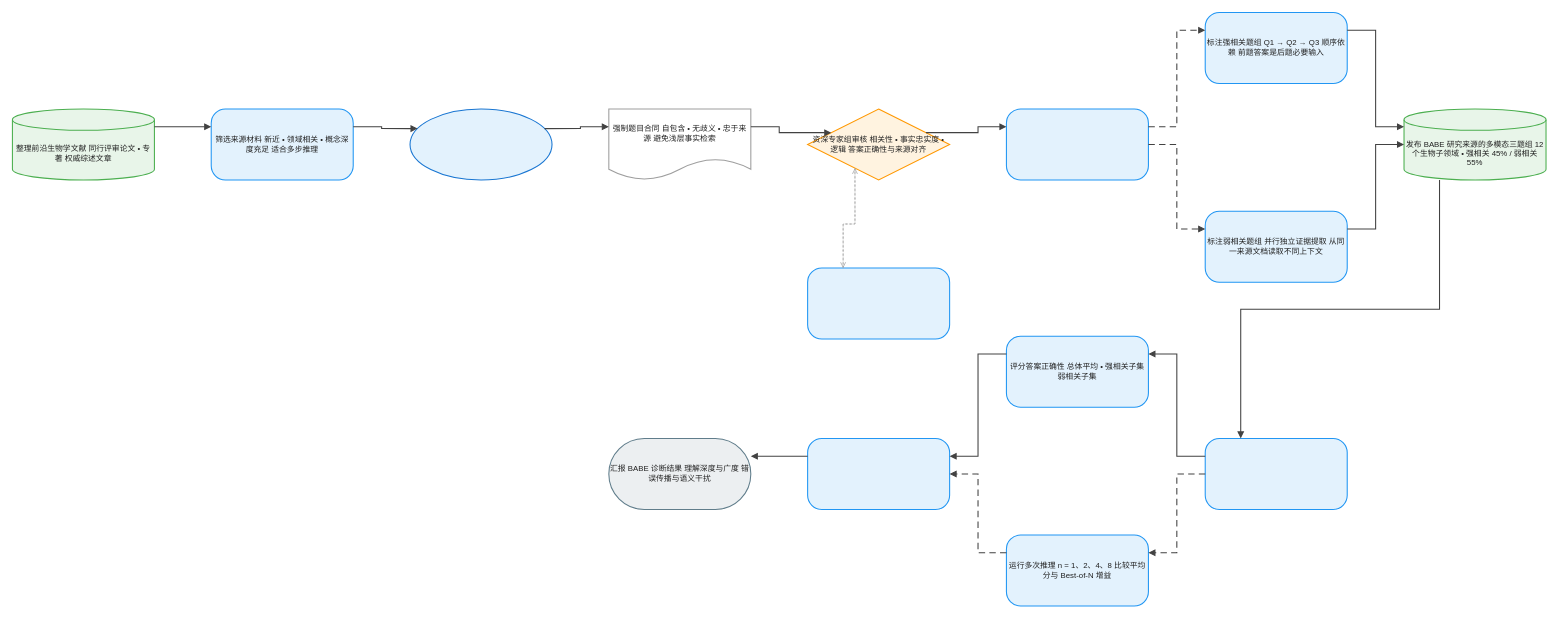
The diagram is 1559 pixels wide and 619 high, and some of its shapes have lost their labels. The box of each missing label's shape, as (x1, y1, x2, y2) in pixels:
借助 LLM 移除简单题 保留研究级实验推理题 保存明确的相关性标注: (1006, 108, 1149, 180)
分析推理行为 深度推理 • 自我探索 自我反思与收敛性: (807, 438, 950, 510)
评测前沿与开源模型 综合实验图表与背景上下文 回答每组三道问题: (1204, 438, 1347, 510)
退回不合格题目 修复事实错误、歧义或来源偏离 再执行第二轮审核: (807, 267, 950, 339)
领域专家编写三题组 概念理解 • 方法解释 高阶实验推理: (409, 108, 552, 180)
